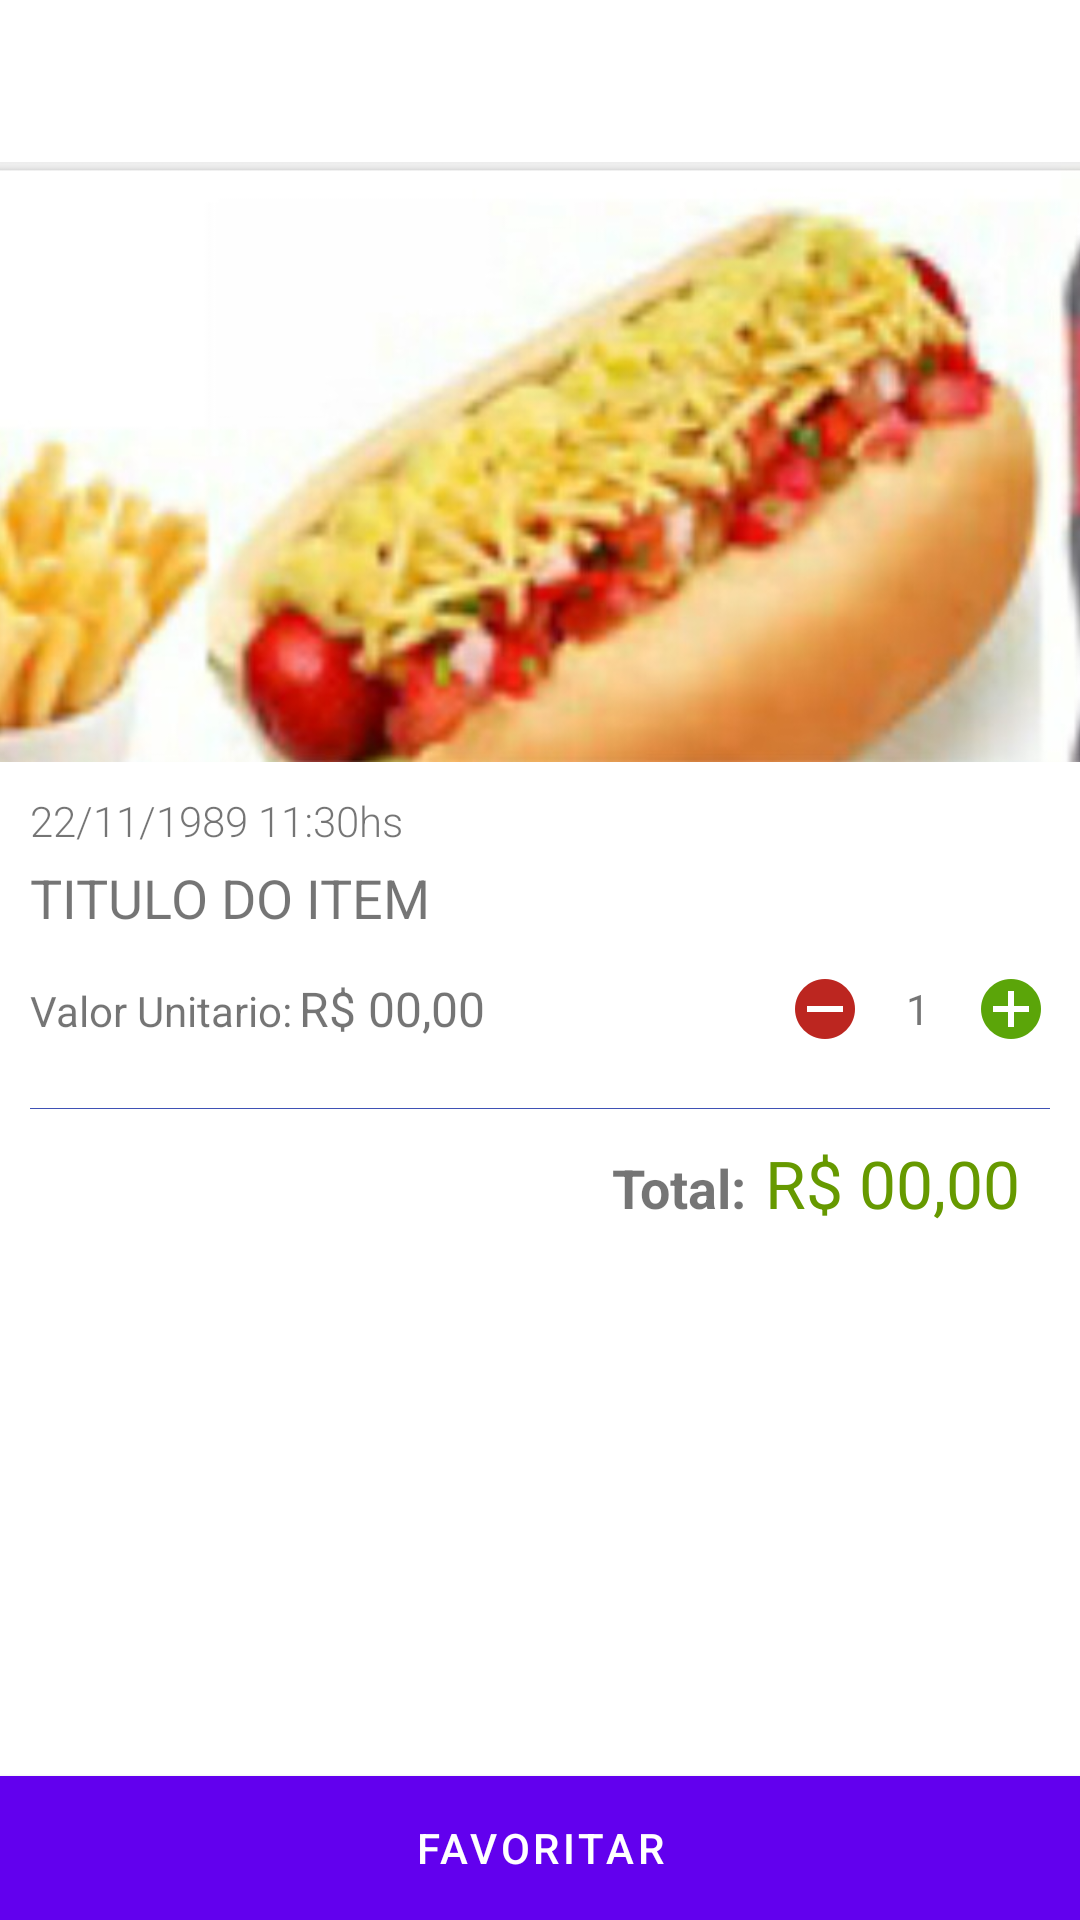

Point at icon controls on the screen. Image size 1080×1920, points as (x,y).
minus item: (825,1009)
plus item: (1011,1009)
